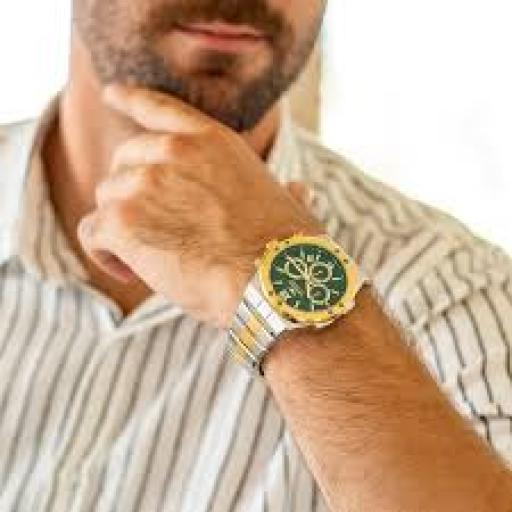KolSaati: (210, 214, 374, 382)
